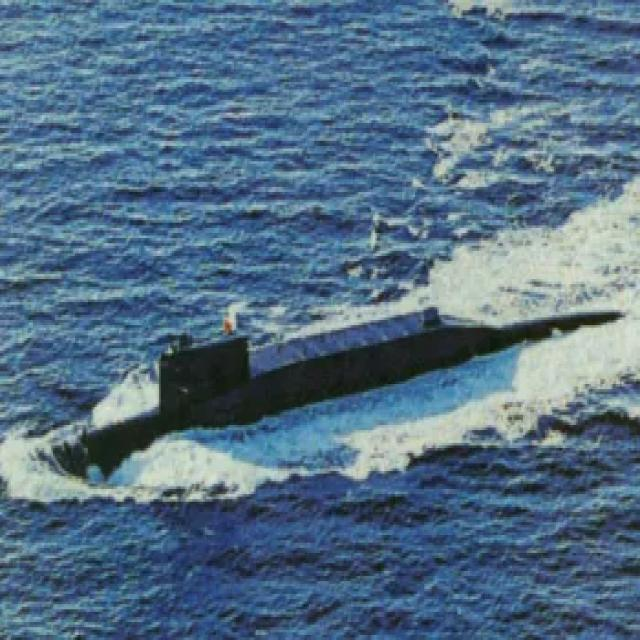Submarine-Jin-Class-CHI: (9, 294, 632, 502)
